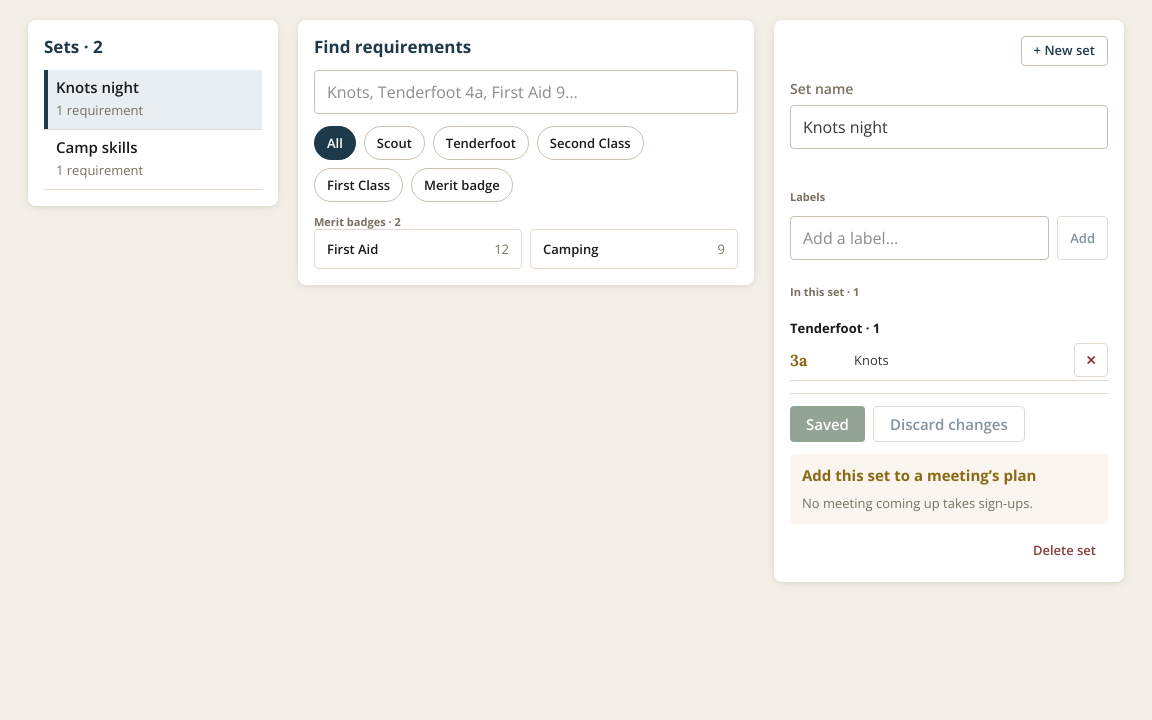
Scenario: which focus sets hold a requirement (Patrick, 2026-10-29) › RankRequirement_ListsTheFocusSetsItIsIn
This screenshot has width=1152, height=720.
Click the button "Tenderfoot" at (481, 143), box [433,126,529,160]
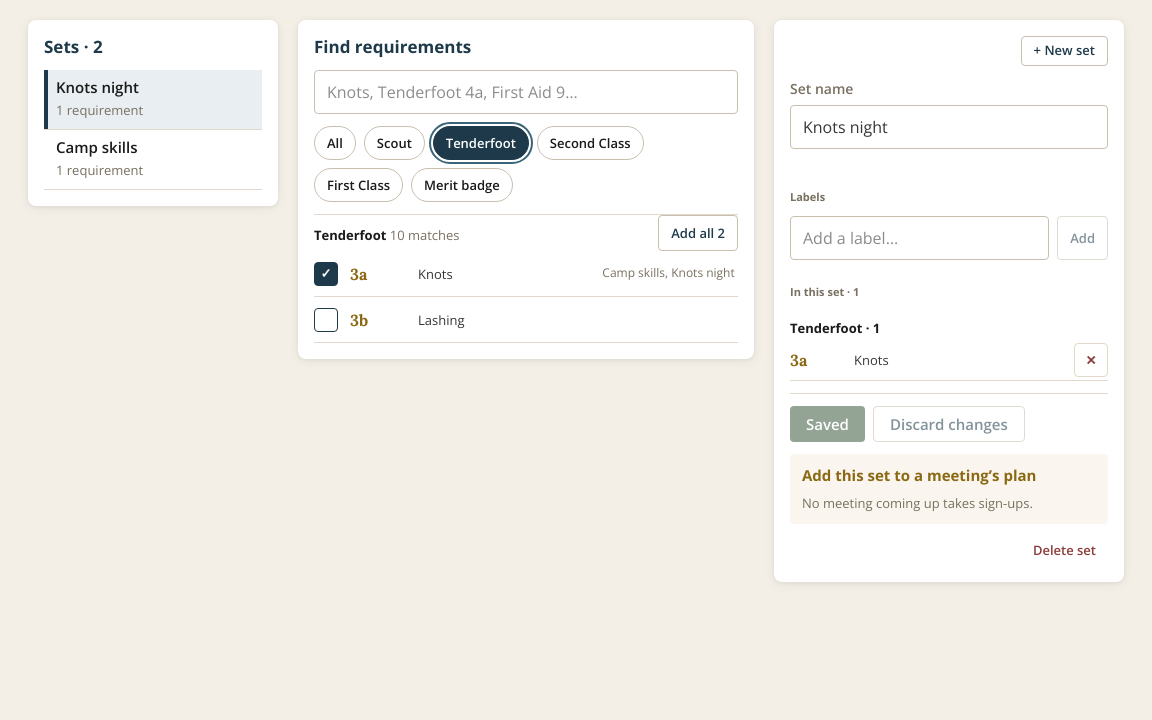
Expected: the text "Camp skills, Knots night" is shown, [602,265,738,282]
